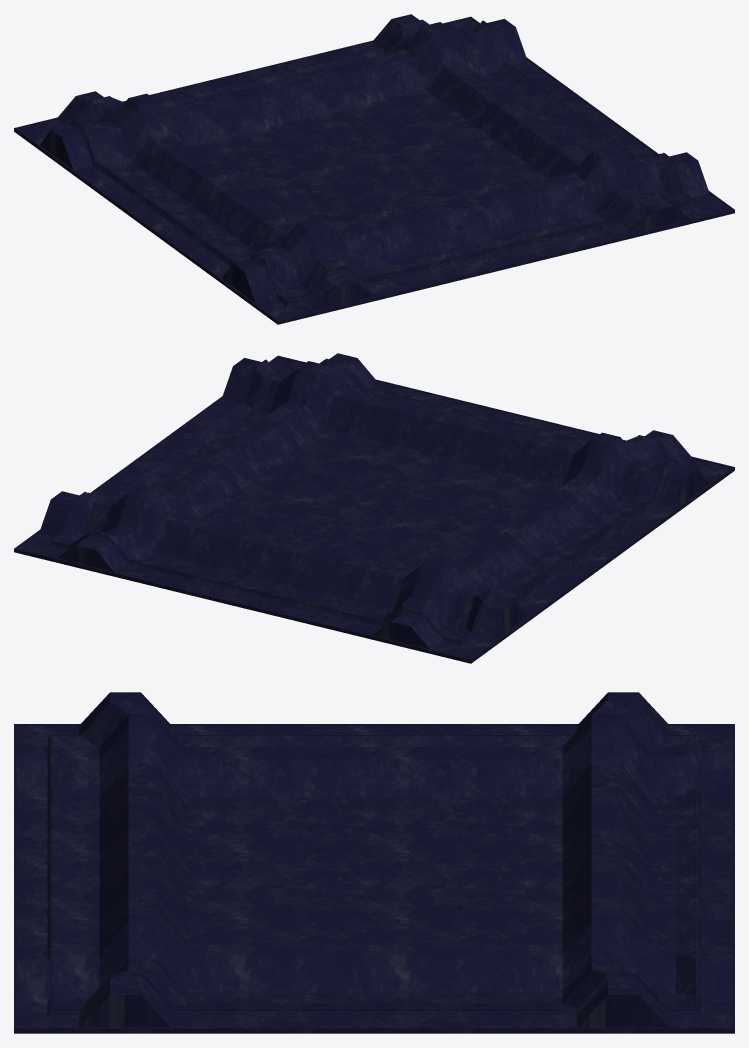
File: floor_t.glb
3 renders of one model, top to bottom at view 1: azimuth 30°, elevation 25°; view 2: azimuth 150°, elevation 25°; view 3: azimuth 270°, elevation 25°, orthographic. The views are drawn at different scales.
Visible parts, largest first — view 1: Cube; view 2: Cube; view 3: Cube.
Boxes of the visible parts, x1,y1,x2,y2 form: Cube: [14, 14, 734, 324]; Cube: [14, 353, 734, 663]; Cube: [14, 692, 734, 1033].
Bounding box in the file's own units: 323 × 31.42 × 323.
1 material, 1 textured.
